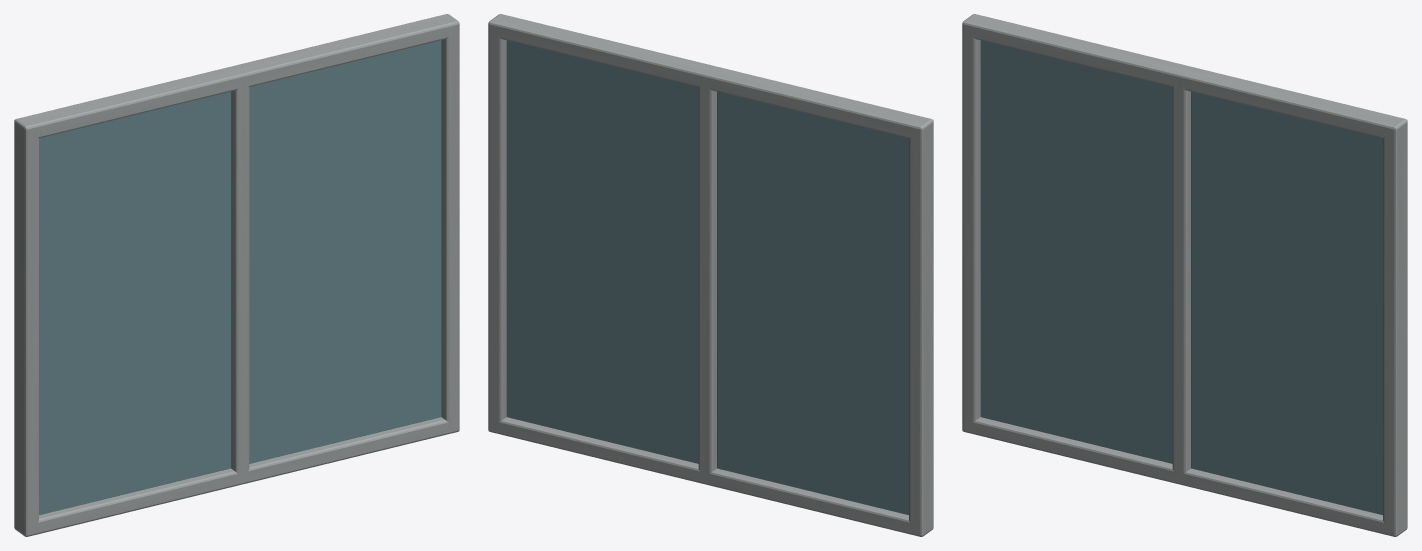
Rendered from gallery_window_panel.glb.
3 renders of one model, left to right at view 1: azimuth 30°, elevation 25°; view 2: azimuth 150°, elevation 25°; view 3: azimuth 330°, elevation 25°, orthographic.
Visible parts, largest first — view 1: WindowGlass.001, WindowGlass, HorizontalFrame.001, VerticalFrame, HorizontalFrame, VerticalFrame.002, VerticalFrame.001; view 2: WindowGlass.001, WindowGlass, HorizontalFrame.001, VerticalFrame, HorizontalFrame, VerticalFrame.002, VerticalFrame.001; view 3: WindowGlass, WindowGlass.001, HorizontalFrame.001, VerticalFrame.002, HorizontalFrame, VerticalFrame, VerticalFrame.001.
Part boxes in pixels (left/top/right/bottom): WindowGlass.001: left=249, top=40, right=441, bottom=463; WindowGlass: left=39, top=91, right=230, bottom=514; HorizontalFrame.001: left=14, top=14, right=459, bottom=139; VerticalFrame: left=14, top=125, right=38, bottom=525; HorizontalFrame: left=14, top=417, right=459, bottom=536; VerticalFrame.002: left=441, top=23, right=459, bottom=433; VerticalFrame.001: left=231, top=75, right=249, bottom=482; WindowGlass.001: left=506, top=40, right=698, bottom=463; WindowGlass: left=717, top=91, right=908, bottom=514; HorizontalFrame.001: left=488, top=14, right=933, bottom=139; VerticalFrame: left=909, top=125, right=933, bottom=535; HorizontalFrame: left=488, top=417, right=933, bottom=536; VerticalFrame.002: left=488, top=24, right=506, bottom=433; VerticalFrame.001: left=698, top=74, right=716, bottom=482; WindowGlass: left=980, top=40, right=1172, bottom=463; WindowGlass.001: left=1191, top=91, right=1382, bottom=514; HorizontalFrame.001: left=962, top=14, right=1407, bottom=139; VerticalFrame.002: left=1383, top=126, right=1407, bottom=535; HorizontalFrame: left=962, top=417, right=1407, bottom=536; VerticalFrame: left=962, top=24, right=980, bottom=433; VerticalFrame.001: left=1172, top=75, right=1190, bottom=482.
Bounding box in the file's own units: 2.44 × 2.2 × 0.12.
Materials: 2 (1 with a texture image).
